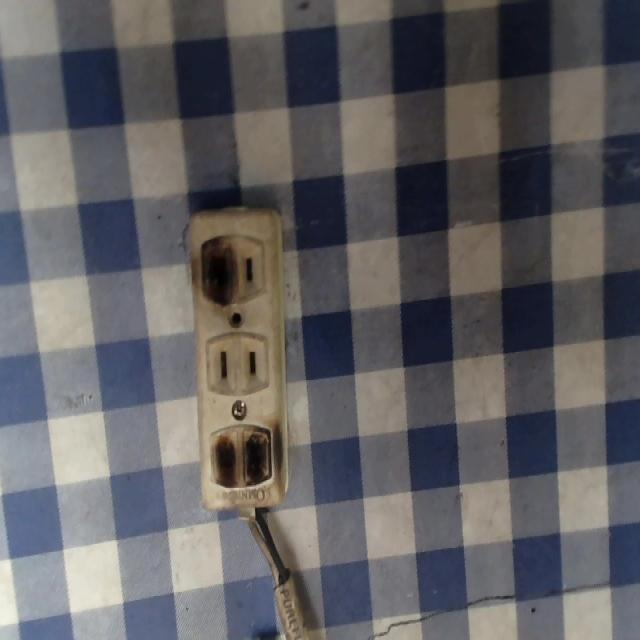-: (204, 420, 284, 497), (195, 232, 246, 305)
